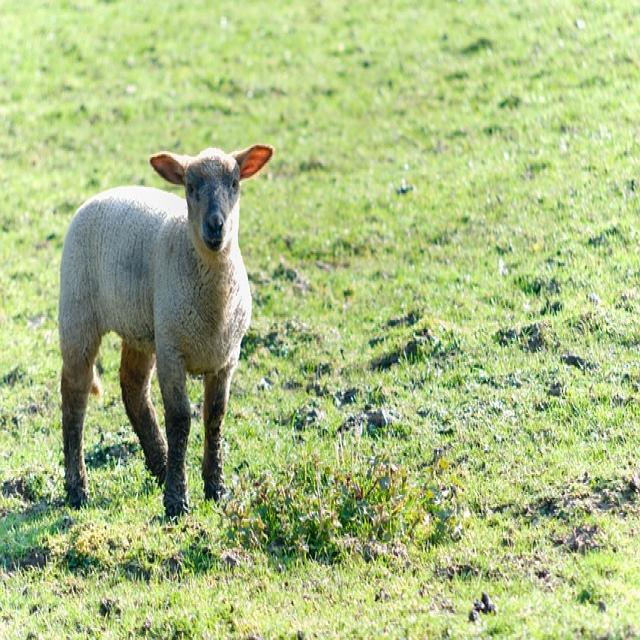sheep: (57, 142, 274, 520)
